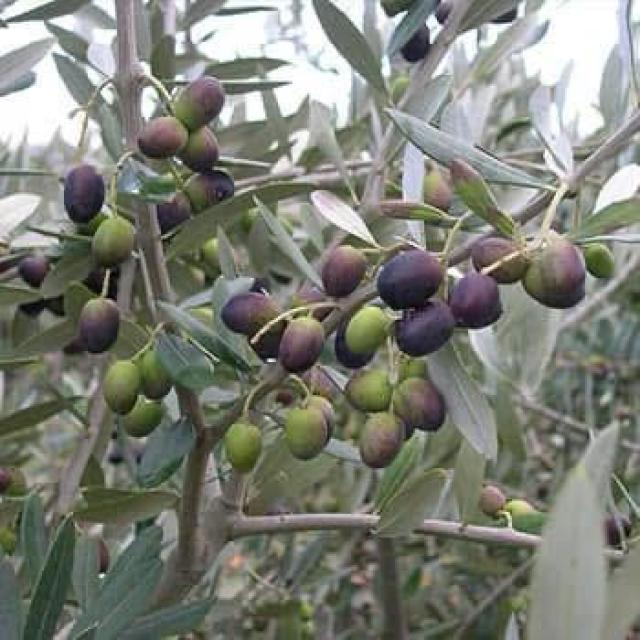Healthy: (376, 247, 443, 309), (393, 300, 453, 357), (448, 271, 501, 327), (172, 75, 223, 132), (391, 377, 444, 430), (358, 411, 404, 468), (278, 316, 322, 373), (321, 246, 369, 297), (64, 163, 104, 223), (77, 296, 119, 353), (102, 358, 141, 416), (137, 115, 187, 159), (91, 216, 133, 267), (283, 408, 325, 459), (225, 420, 261, 473)
